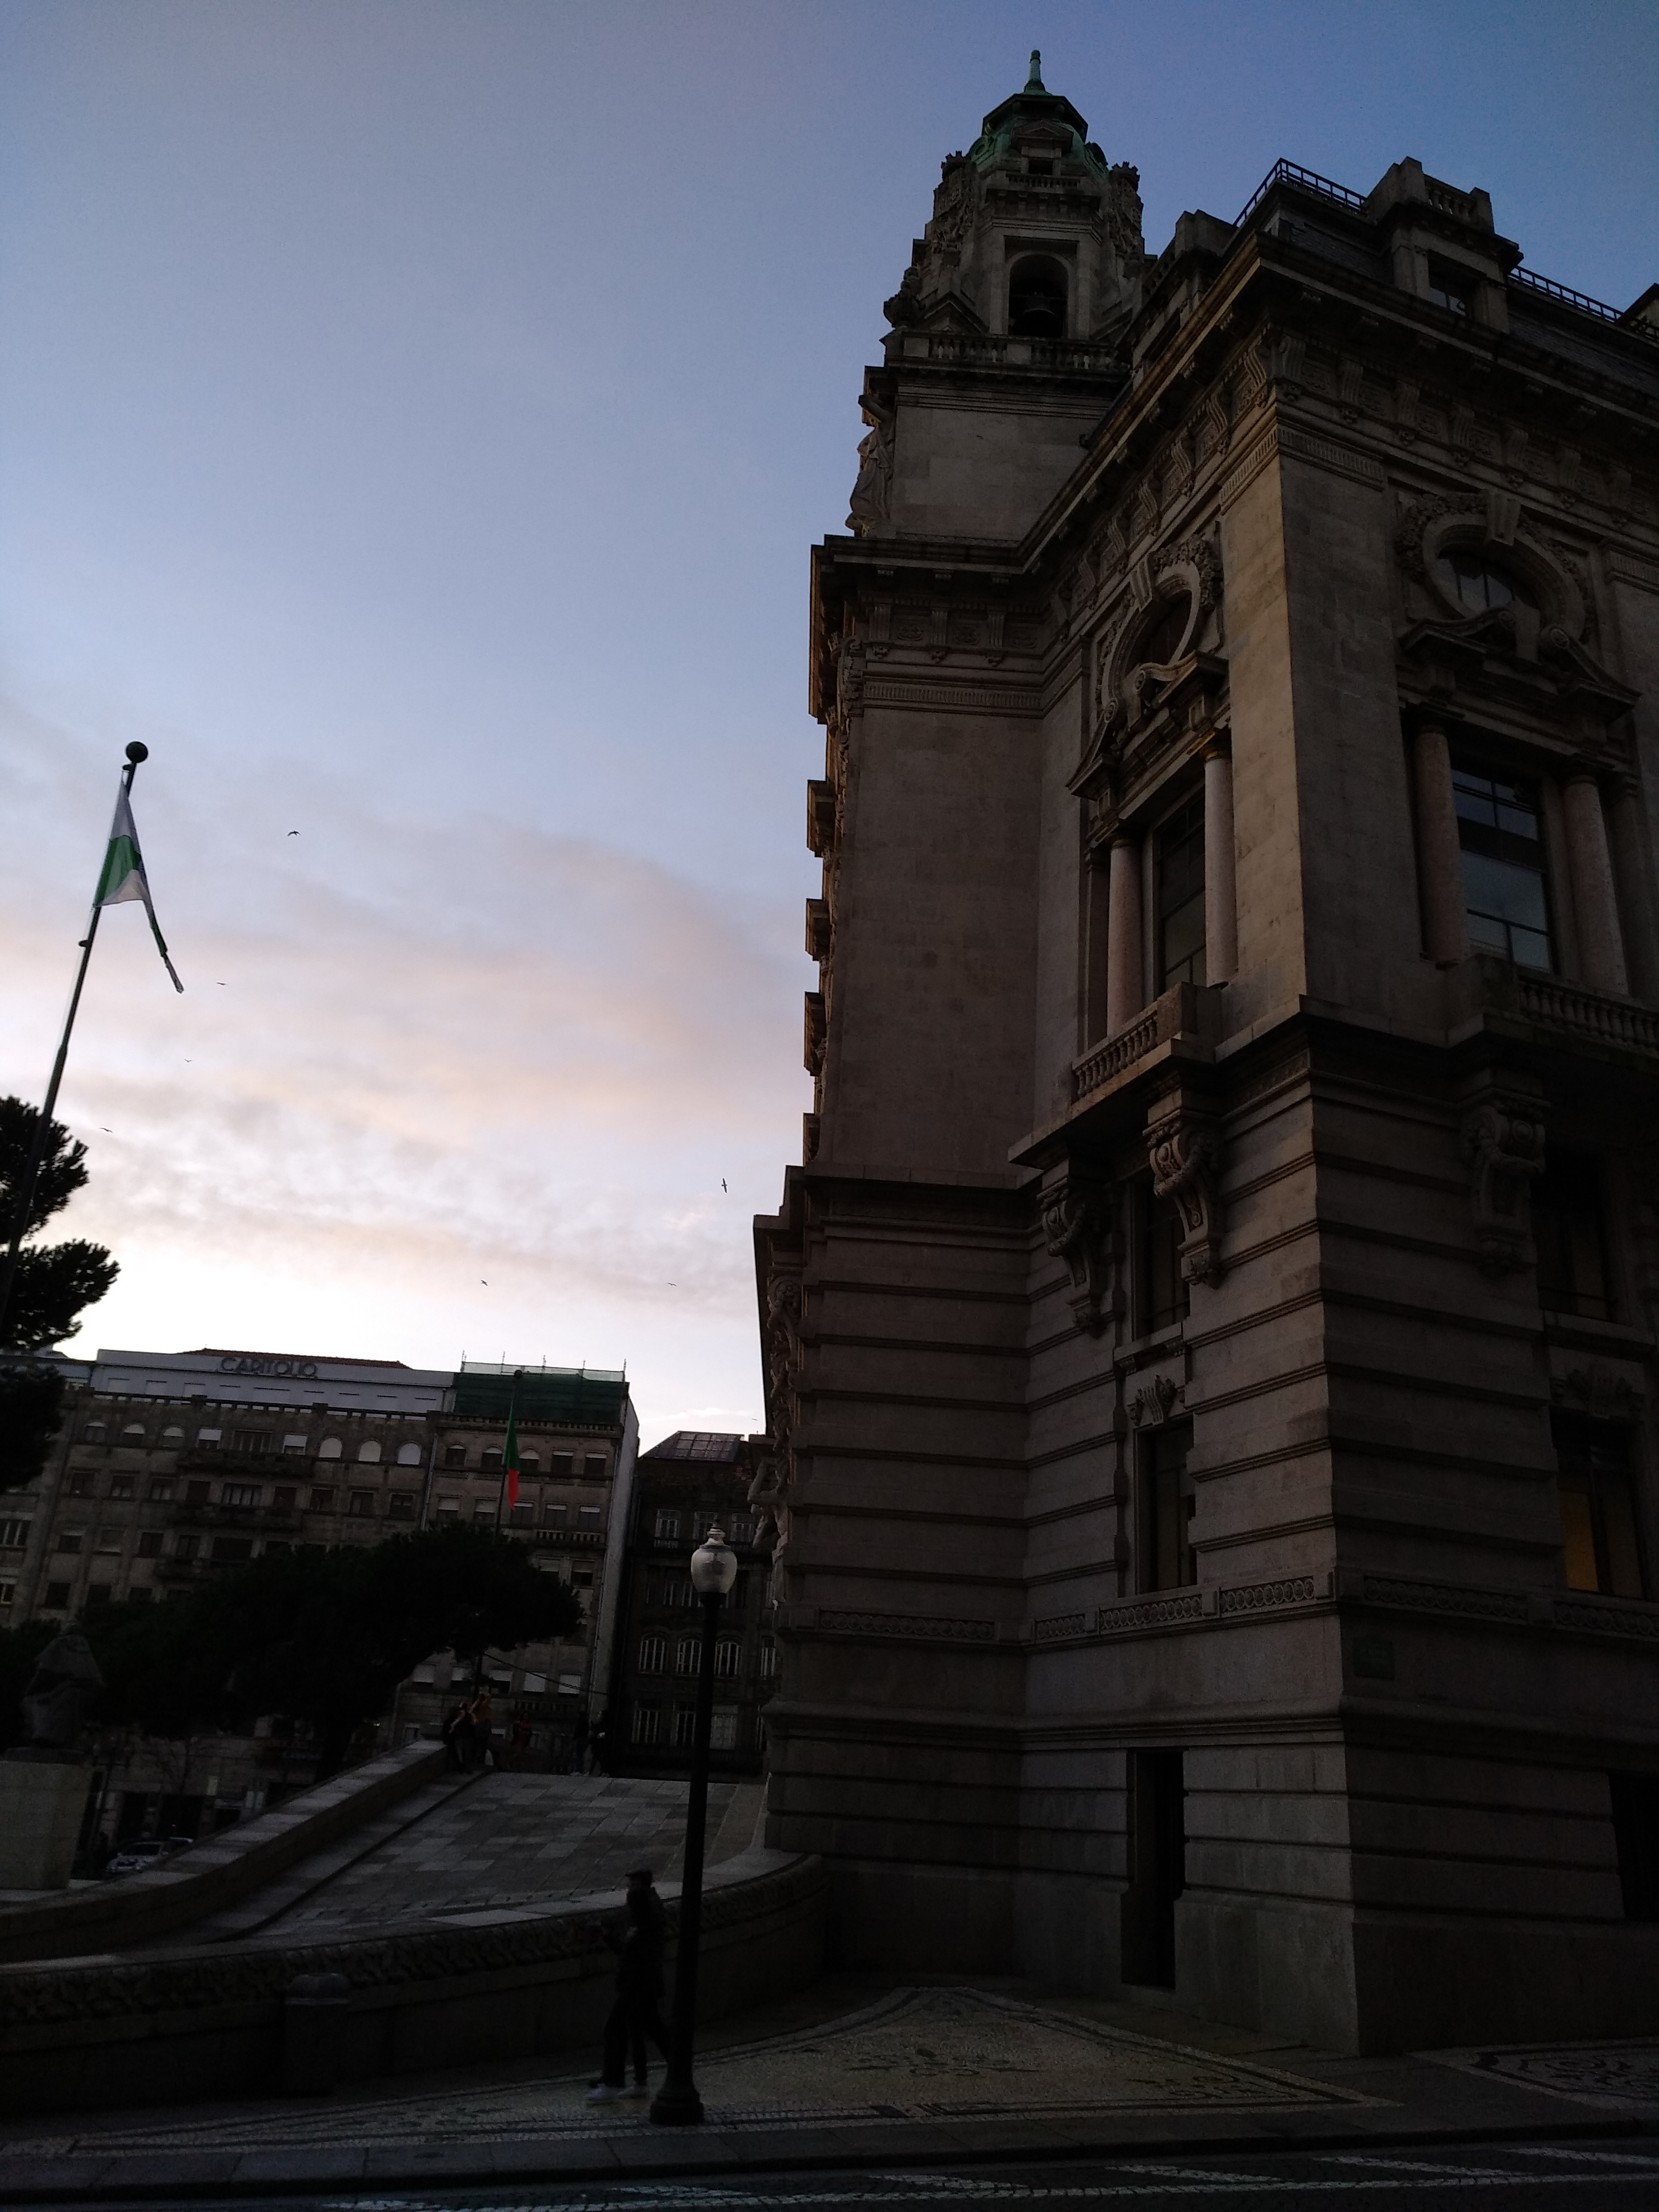camara: (749, 24, 1659, 1952)
